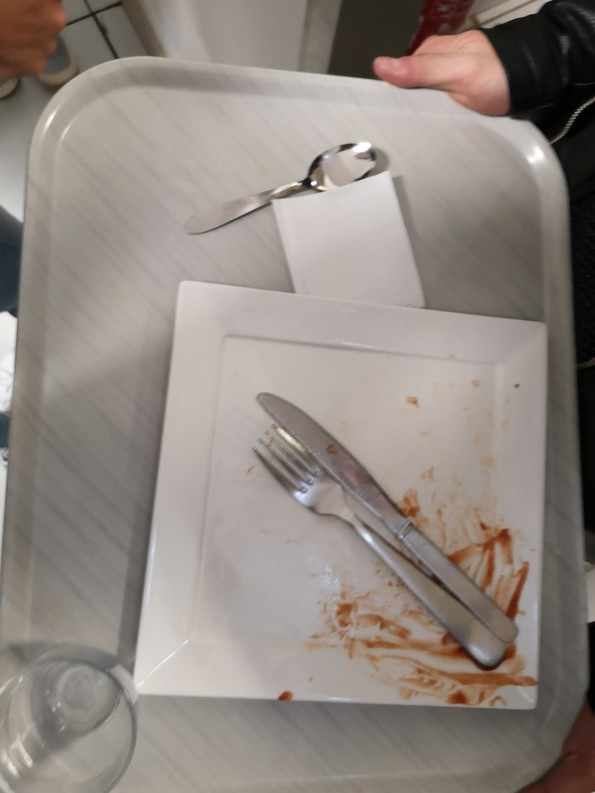cup: (9, 635, 150, 793)
cutlery: (247, 384, 517, 678), (187, 137, 385, 240)
trash: (273, 178, 436, 309)
